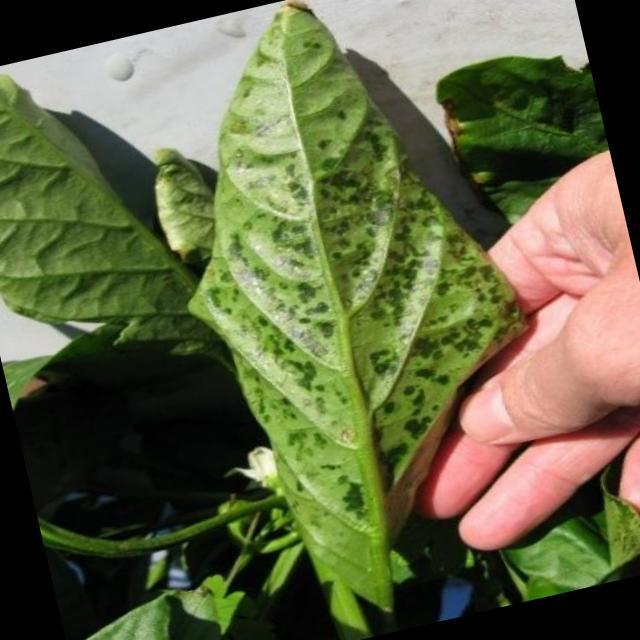Bacterial Spot: (184, 91, 510, 512)
